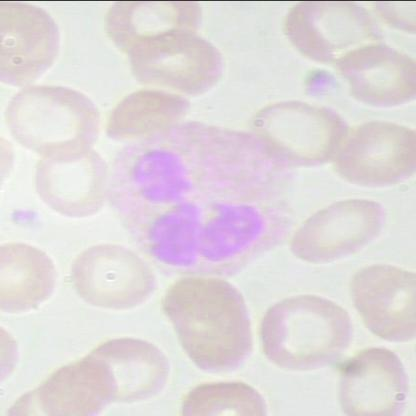Platelets: (298, 64, 344, 104), (2, 201, 44, 229)
RBC: (158, 274, 266, 384), (119, 21, 240, 103), (252, 291, 356, 384), (3, 72, 109, 158), (279, 1, 394, 76), (245, 96, 356, 172), (282, 193, 398, 264), (30, 136, 115, 223), (67, 242, 157, 320), (100, 0, 212, 58), (81, 335, 175, 404), (0, 1, 73, 89), (330, 346, 412, 416), (1, 236, 59, 321), (168, 374, 276, 416)
WBC: (101, 106, 299, 290)
